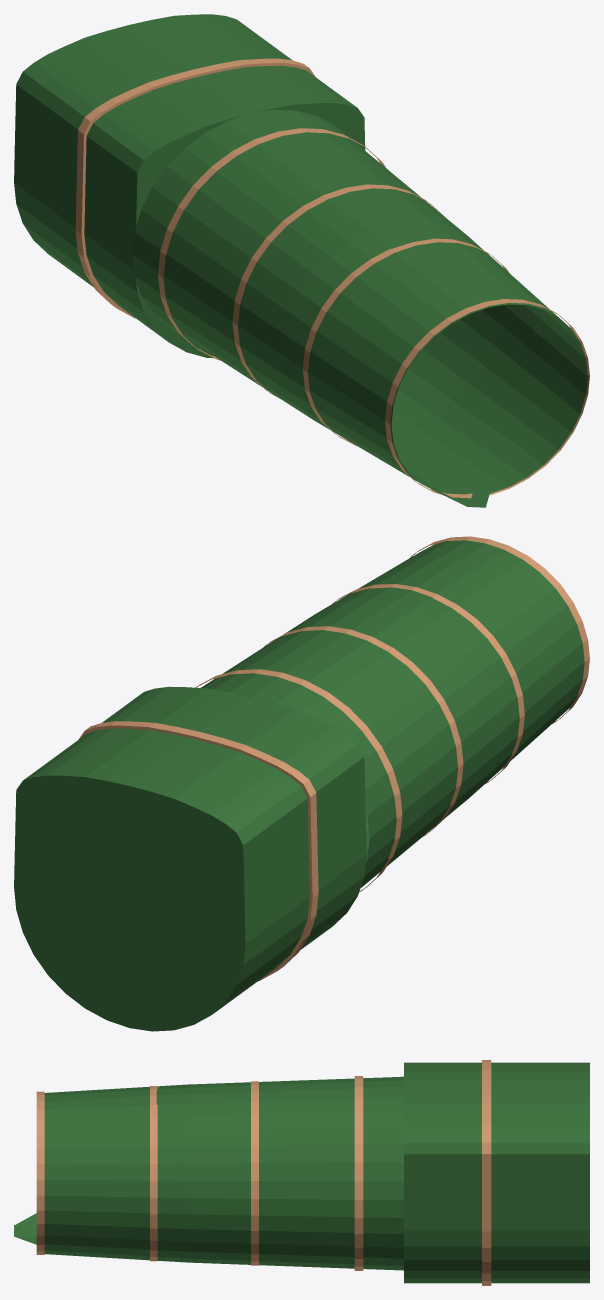
File: gwr-castle-boiler.dae
3 renders of one model, top to bottom at view 1: azimuth 30°, elevation 25°; view 2: azimuth 150°, elevation 25°; view 3: azimuth 270°, elevation 25°, orthographic. The views are drawn at different scales.
Visible parts, largest first — view 1: Cylinder_011, Cylinder_017, Cylinder_028, Cylinder_024, Cylinder_027, Cylinder_026, Cylinder_025; view 2: Cylinder_017, Cylinder_011, Cylinder_028, Cylinder_027, Cylinder_026, Cylinder_025, Cylinder_024; view 3: Cylinder_011, Cylinder_017, Cylinder_028, Cylinder_027, Cylinder_026, Cylinder_024, Cylinder_025.
Part boxes in pixels (left/top/right/bottom): Cylinder_011: left=132, top=109, right=587, bottom=507; Cylinder_017: left=14, top=14, right=365, bottom=358; Cylinder_028: left=75, top=58, right=315, bottom=318; Cylinder_024: left=385, top=299, right=589, bottom=498; Cylinder_027: left=158, top=128, right=385, bottom=360; Cylinder_026: left=232, top=184, right=444, bottom=398; Cylinder_025: left=302, top=238, right=509, bottom=445; Cylinder_017: left=14, top=686, right=366, bottom=1031; Cylinder_011: left=201, top=540, right=584, bottom=887; Cylinder_028: left=78, top=721, right=318, bottom=981; Cylinder_027: left=196, top=669, right=402, bottom=891; Cylinder_026: left=264, top=626, right=463, bottom=836; Cylinder_025: left=332, top=584, right=524, bottom=783; Cylinder_024: left=409, top=536, right=589, bottom=723; Cylinder_011: left=14, top=1076, right=403, bottom=1270; Cylinder_017: left=404, top=1062, right=589, bottom=1283; Cylinder_028: left=482, top=1060, right=491, bottom=1285; Cylinder_027: left=354, top=1076, right=363, bottom=1270; Cylinder_026: left=251, top=1081, right=258, bottom=1265; Cylinder_024: left=36, top=1091, right=44, bottom=1254; Cylinder_025: left=150, top=1086, right=157, bottom=1261.
Size of the model in its own units: 1.48 by 4.03 by 1.47.
